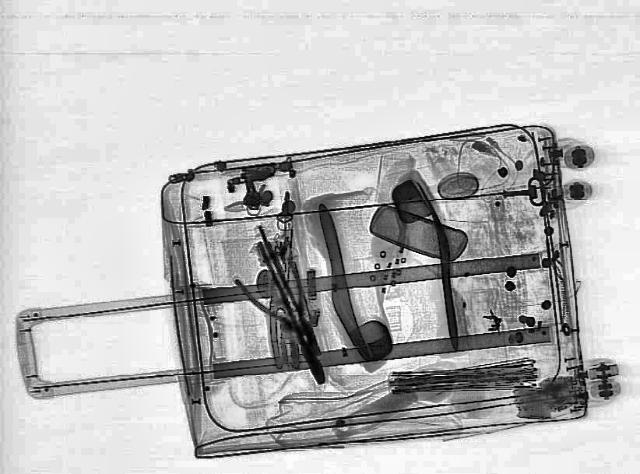Pliers: (231, 260, 353, 366)
